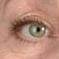eye: (30, 24, 46, 38)
